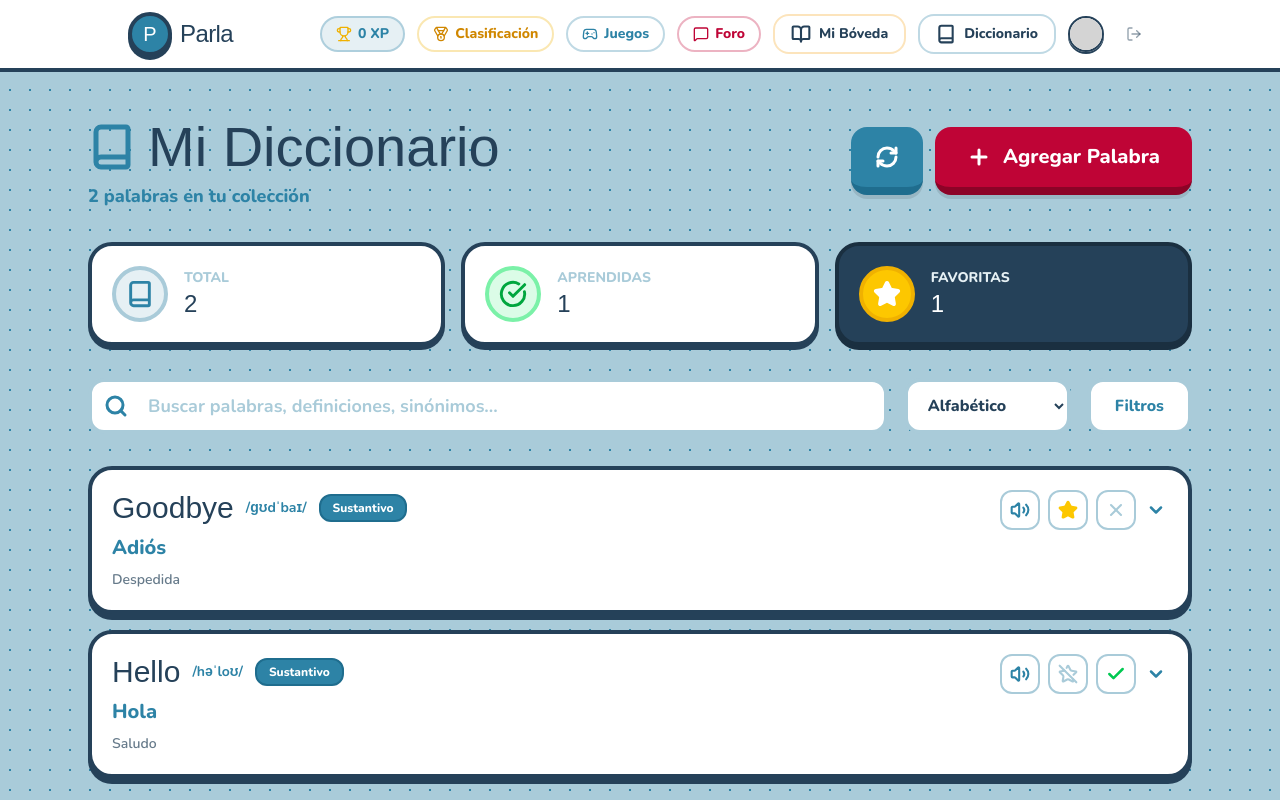
Test: DictionaryPage Integration Tests › Search Functionality › shows empty state when no results found
Expected: the heading "Hello" is shown, [112,654,180,690]
Type "xyz123nonexistent" into the field with placeholder "Buscar palabras, definiciones, sinónimos..." at (488, 406), box [88,378,888,434]
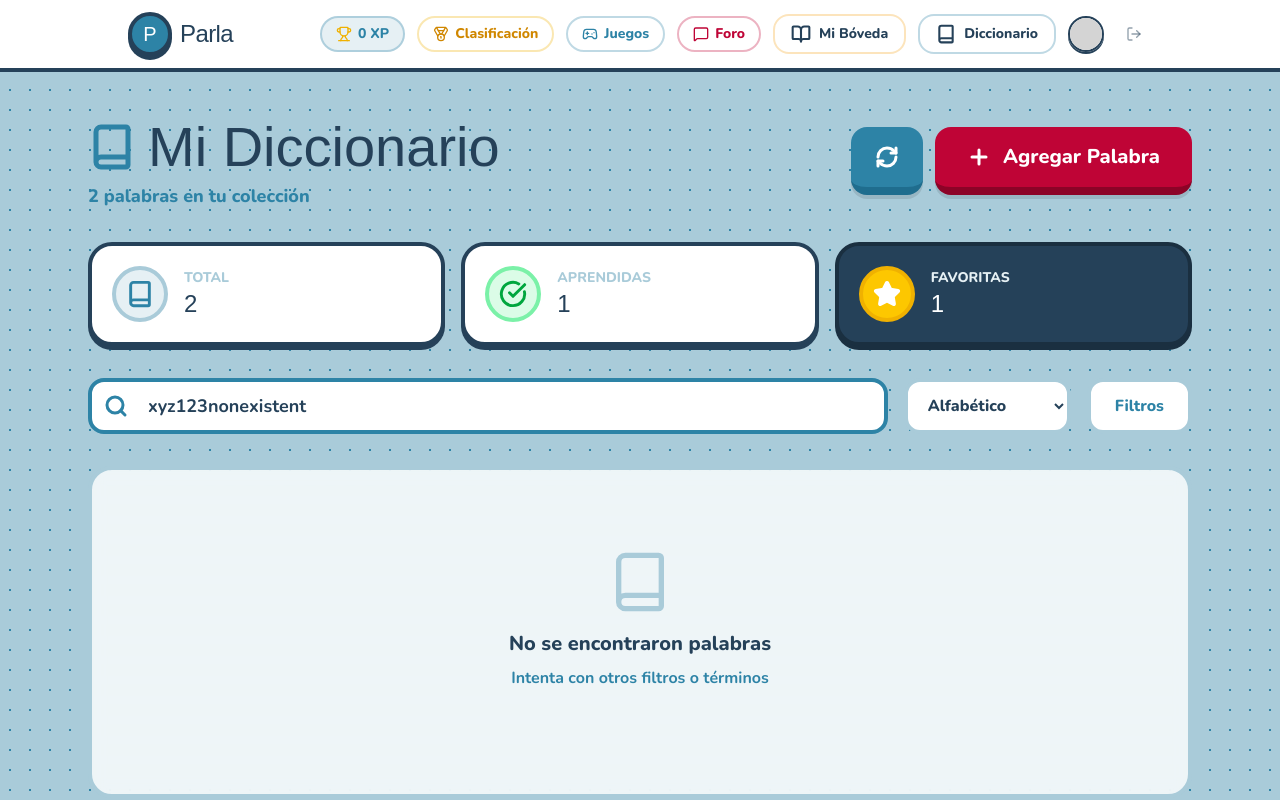
Now the heading "No se encontraron palabras" is shown, box [509,630,771,657]
